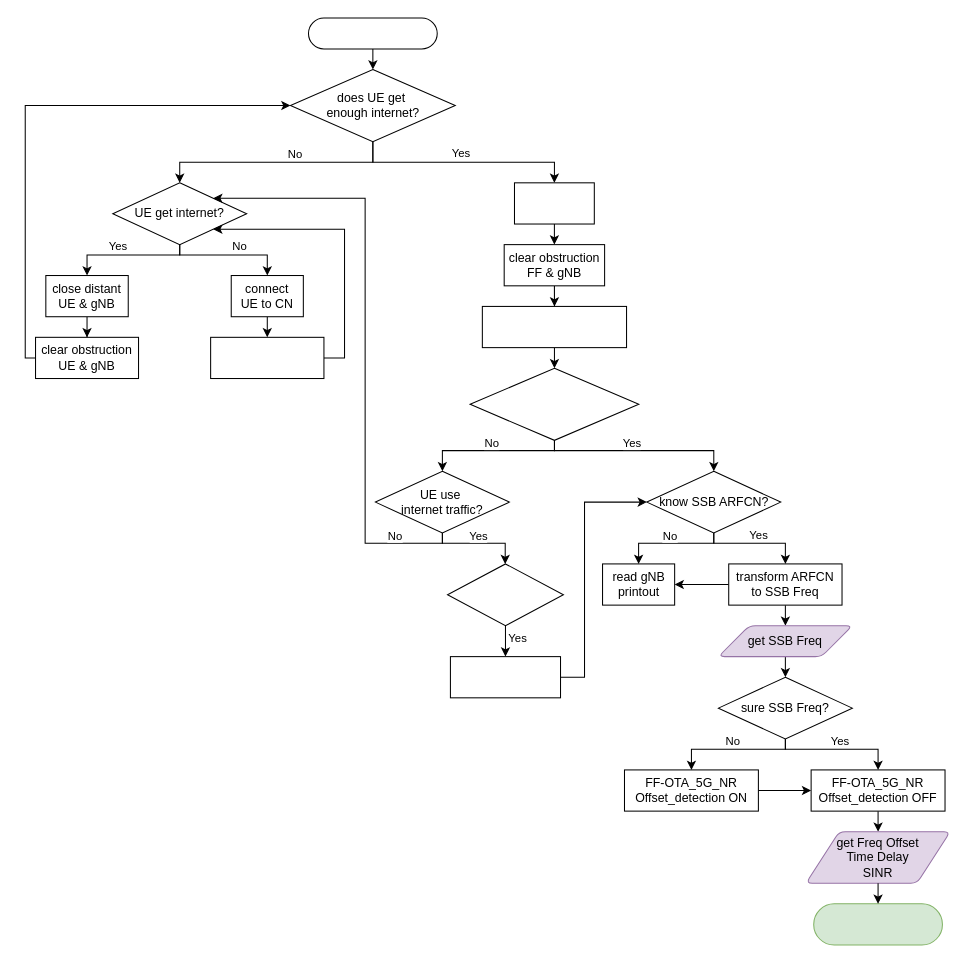
Some shapes in this 968 by 963 pixel diagram are drawn without their labels. Here are the shapes that lost their labels. From the top down, the box of each, then its label:
(307, 17, 437, 49): Start network
(513, 182, 594, 224): close distant FF & gNB
(481, 305, 627, 348): use FF-RTSA to capture signal spectrum
(210, 336, 324, 379): enable UE to access internet
(469, 367, 639, 440): Signal spectrum > Noise Floor ?
(447, 563, 563, 626): UE use burst traffic?
(449, 656, 561, 698): change app to use constant signal
(813, 903, 942, 945): plot QPSK constellation
